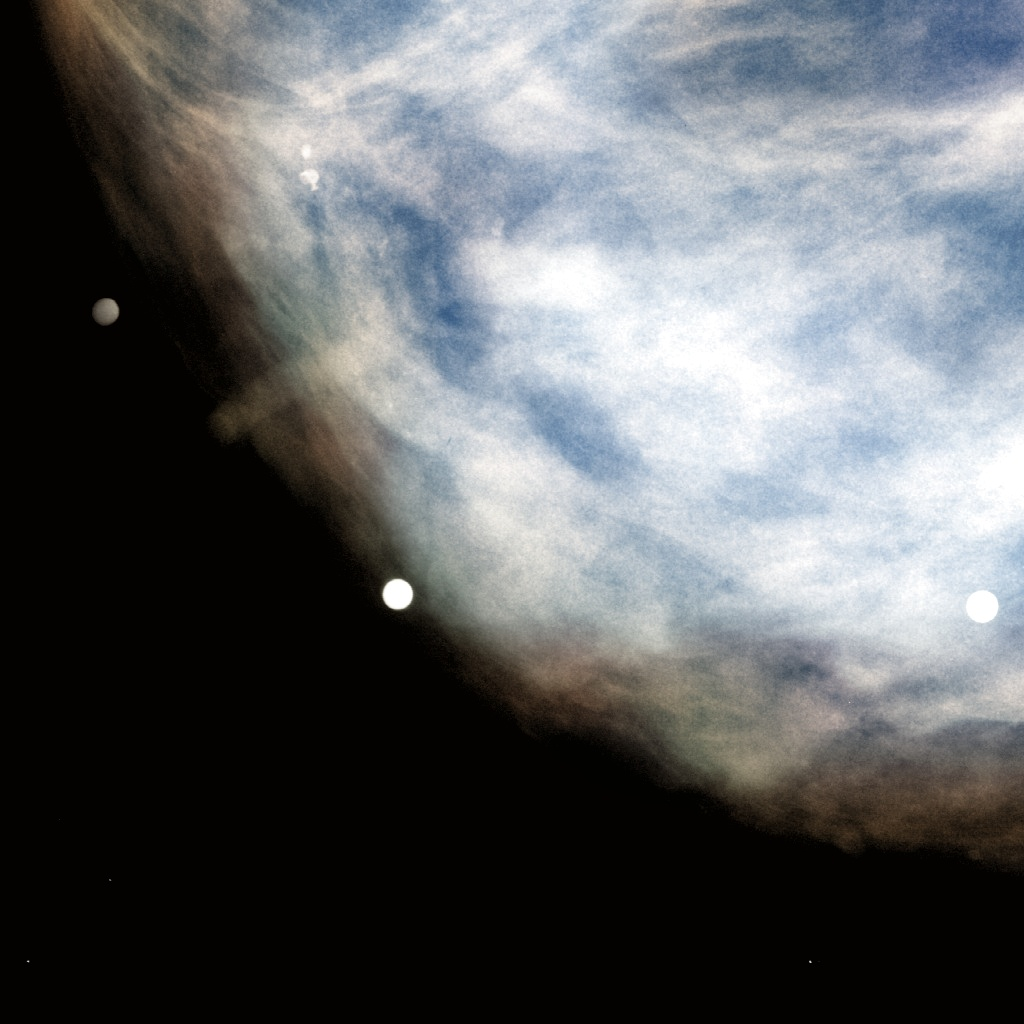tumor: (374, 373, 650, 651)
